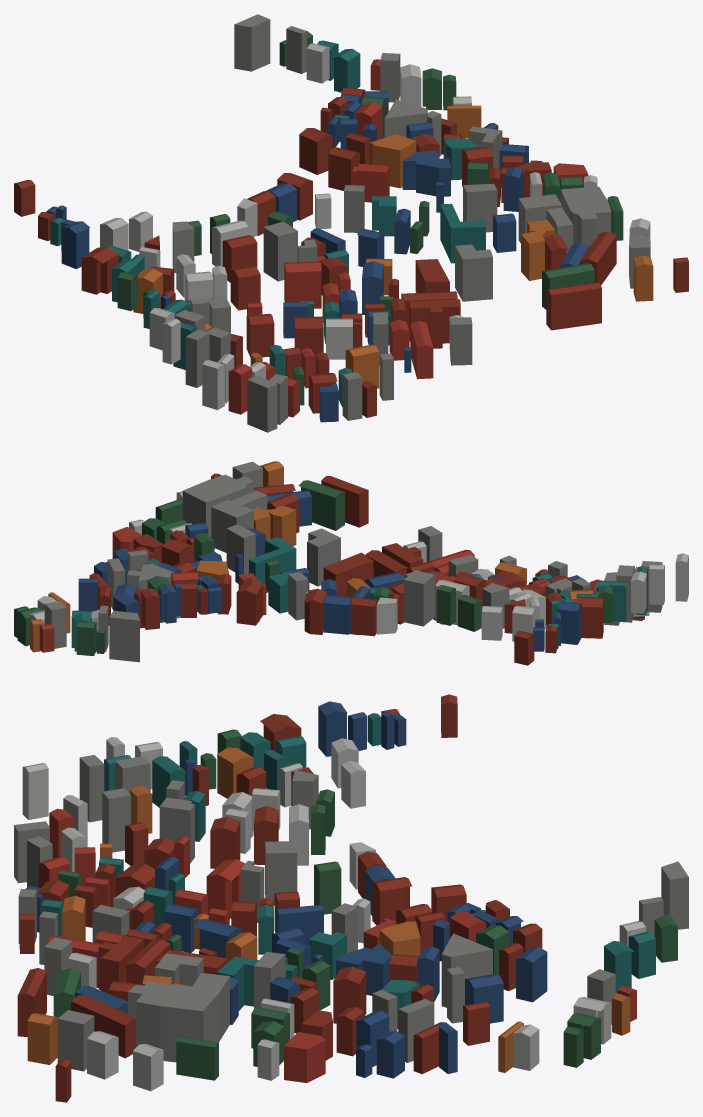
The model's file is near-17-109435-59475.6bf8a746.glb.
3 renders of one model, top to bottom at view 1: azimuth 30°, elevation 25°; view 2: azimuth 150°, elevation 25°; view 3: azimuth 270°, elevation 25°, orthographic. The views are drawn at different scales.
Bounding box in the file's own units: 302 × 84.23 × 298.
